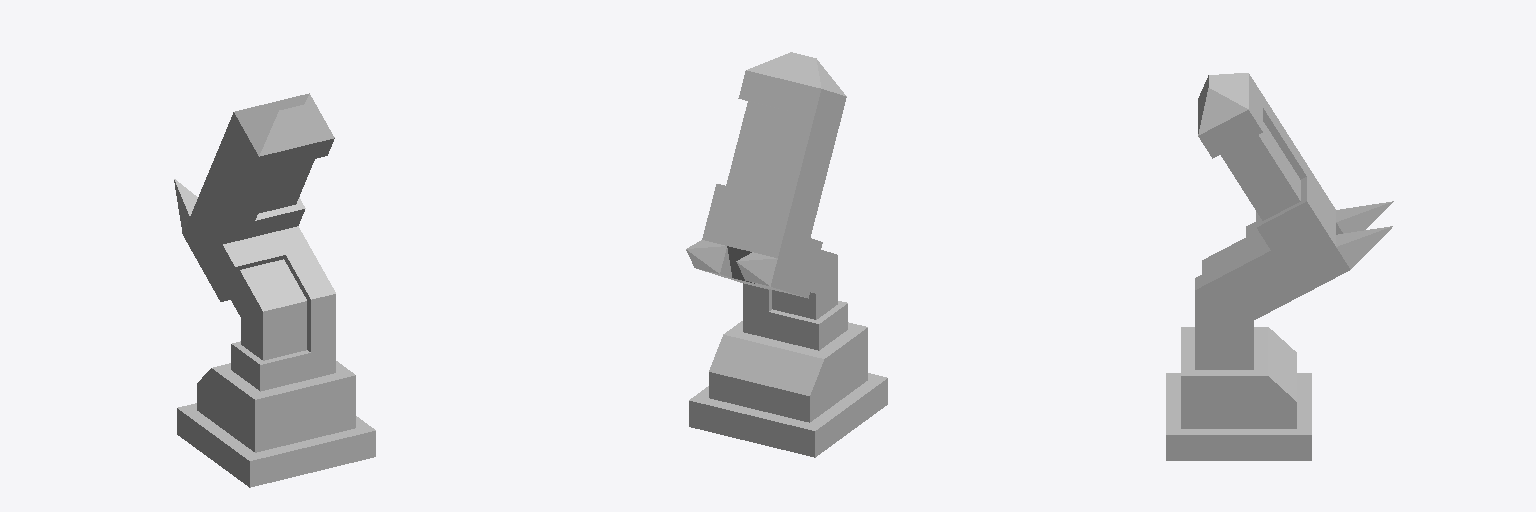
File: leg_basic_r.obj
3 views of the same model, side by side, from view 1: azimuth 30°, elevation 25°; view 2: azimuth 150°, elevation 25°; view 3: azimuth 270°, elevation 25° (orthographic).
Visible parts, largest first — view 1: LEG_RIGHT_BASIC.OBVAR_Cube.318, LEG_RIGHT_DECO_OBSIDIAN_Cube.372; view 2: LEG_RIGHT_BASIC.OBVAR_Cube.318, LEG_RIGHT_DECO_OBSIDIAN_Cube.372; view 3: LEG_RIGHT_BASIC.OBVAR_Cube.318, LEG_RIGHT_DECO_OBSIDIAN_Cube.372.
Boxes of the visible parts, x1=… form: LEG_RIGHT_BASIC.OBVAR_Cube.318: x1=177, y1=93, x2=375, y2=487; LEG_RIGHT_DECO_OBSIDIAN_Cube.372: x1=174, y1=179, x2=197, y2=255; LEG_RIGHT_BASIC.OBVAR_Cube.318: x1=689, y1=52, x2=887, y2=457; LEG_RIGHT_DECO_OBSIDIAN_Cube.372: x1=686, y1=240, x2=782, y2=289; LEG_RIGHT_BASIC.OBVAR_Cube.318: x1=1166, y1=73, x2=1335, y2=460; LEG_RIGHT_DECO_OBSIDIAN_Cube.372: x1=1326, y1=201, x2=1393, y2=282.
Size of the model in its own units: 0.3125 by 0.8246 by 0.4883.